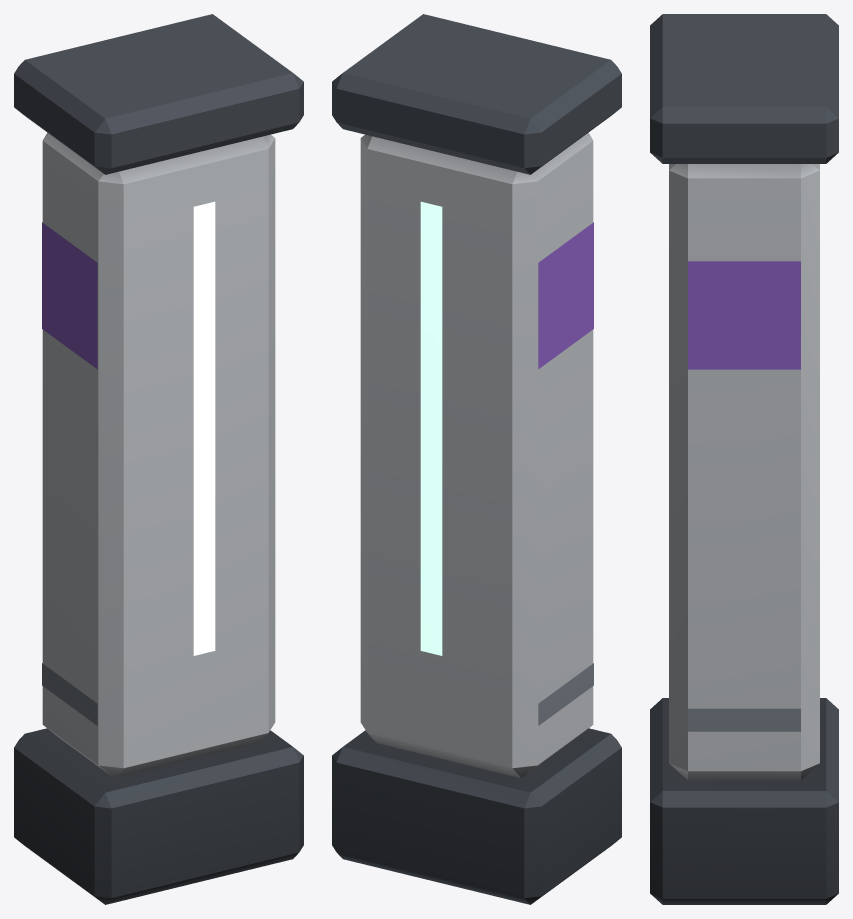
Rendered from junction_post.glb.
3 renders of one model, left to right at view 1: azimuth 30°, elevation 25°; view 2: azimuth 150°, elevation 25°; view 3: azimuth 270°, elevation 25°, orthographic.
Visible parts, largest first — view 1: Base, Lights; view 2: Base, Lights; view 3: Base.
Boxes of the visible parts, <box> form: Base: <box>14,14,303,904</box>; Lights: <box>193,201,215,655</box>; Base: <box>332,14,621,904</box>; Lights: <box>420,201,442,655</box>; Base: <box>650,14,838,904</box>.
Bounding box in the file's own units: 0.39 × 1.4 × 0.3.
